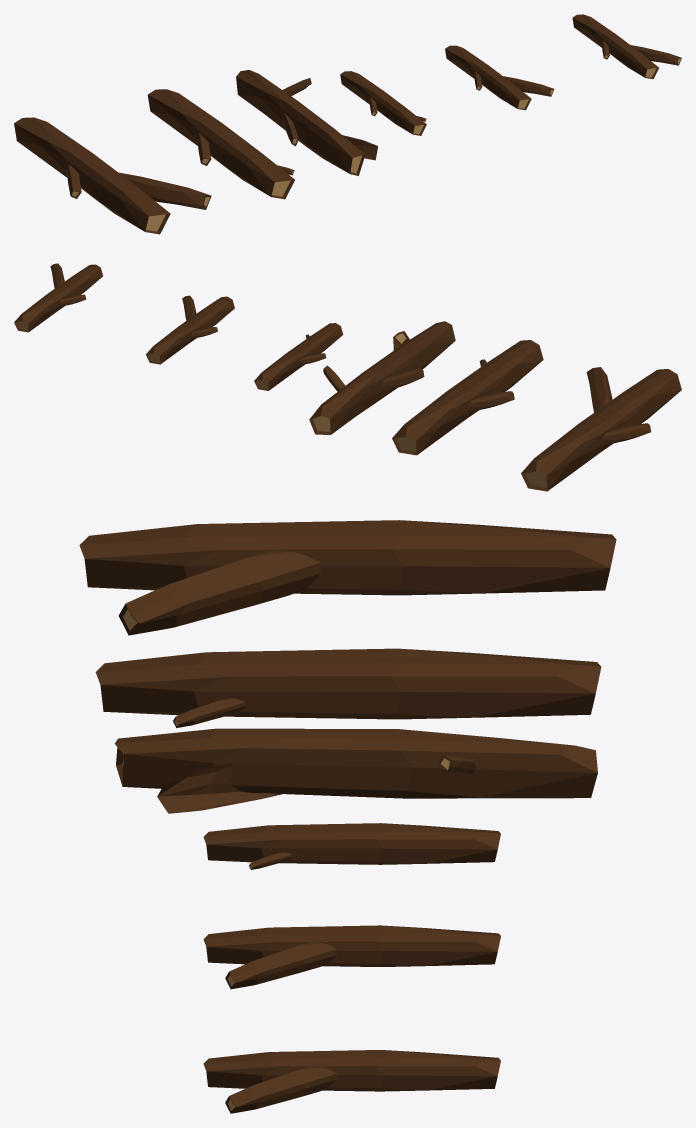
File: SticksLowPoly.fbx
The picture shows the model from 3 angles, top to bottom: view 1: azimuth 30°, elevation 25°; view 2: azimuth 150°, elevation 25°; view 3: azimuth 270°, elevation 25°; orthographic projection. The views are drawn at different scales.
Parts seen in each view (by area): view 1: Cube.006, Cube.005, Cube.003, Cube.002, Cube.004, Cube.001; view 2: Cube.006, Cube.005, Cube.003, Cube.004, Cube.002, Cube.001; view 3: Cube.006, Cube.005, Cube.003, Cube.004, Cube.002, Cube.001.
Part boxes in pixels (left/top/right/bottom): Cube.006: left=14, top=117, right=211, bottom=234; Cube.005: left=147, top=89, right=294, bottom=199; Cube.003: left=236, top=70, right=377, bottom=175; Cube.002: left=445, top=45, right=554, bottom=110; Cube.004: left=572, top=14, right=681, bottom=79; Cube.001: left=340, top=71, right=426, bottom=135; Cube.006: left=521, top=367, right=681, bottom=491; Cube.005: left=392, top=340, right=543, bottom=455; Cube.003: left=309, top=321, right=455, bottom=434; Cube.004: left=14, top=263, right=102, bottom=332; Cube.002: left=146, top=295, right=234, bottom=364; Cube.001: left=254, top=323, right=343, bottom=390; Cube.006: left=79, top=520, right=616, bottom=635; Cube.005: left=95, top=648, right=601, bottom=727; Cube.003: left=114, top=728, right=597, bottom=813; Cube.004: left=203, top=1050, right=500, bottom=1113; Cube.002: left=203, top=925, right=500, bottom=989; Cube.001: left=203, top=823, right=500, bottom=869.
Bounding box in the file's own units: 272 × 15.34 × 106.
